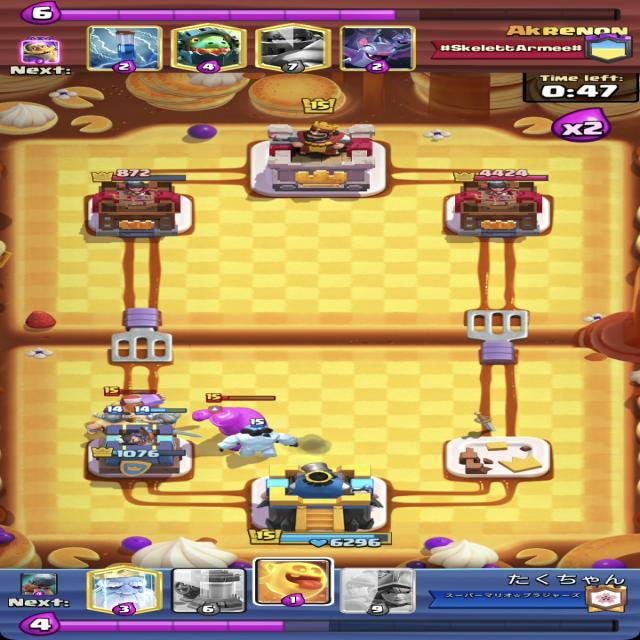Enemy-ElixirGolem: (192, 393, 280, 451)
Enemy-Lumberjack: (101, 386, 175, 422)
Player-EliteBarbarian: (134, 404, 202, 441), (86, 405, 143, 439)
Player-IceGolem: (214, 416, 300, 458)
